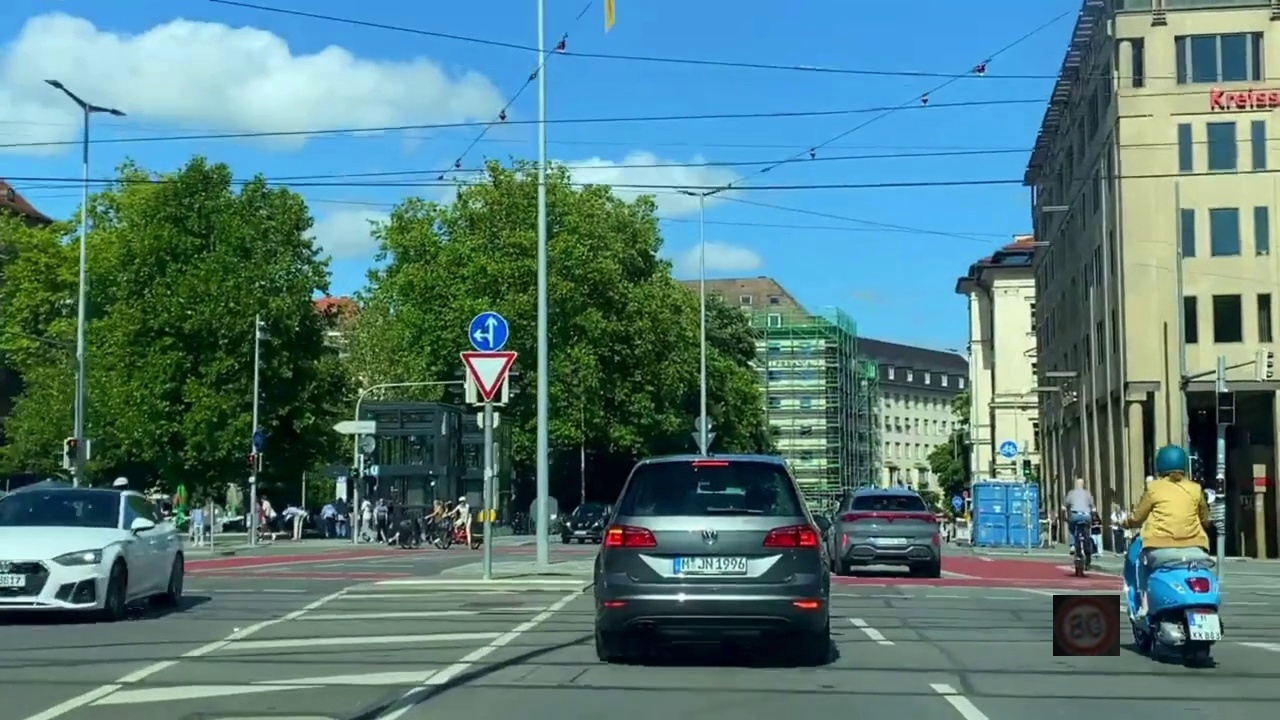Speed 80: (1053, 595, 1120, 656)
